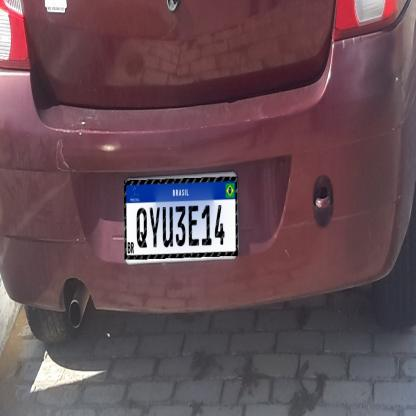PlacaM: (124, 176, 238, 260)
